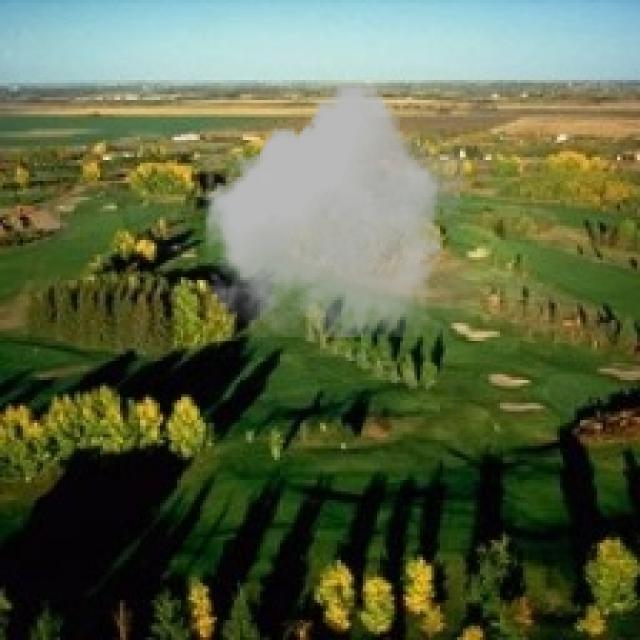smoke: (200, 83, 474, 337)
